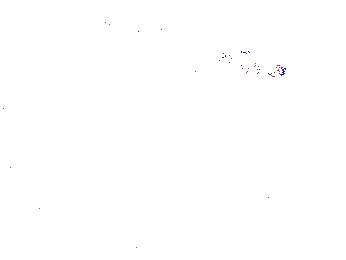glassfish: (69, 4, 212, 69)
redtail glassfish: (215, 46, 288, 77)
